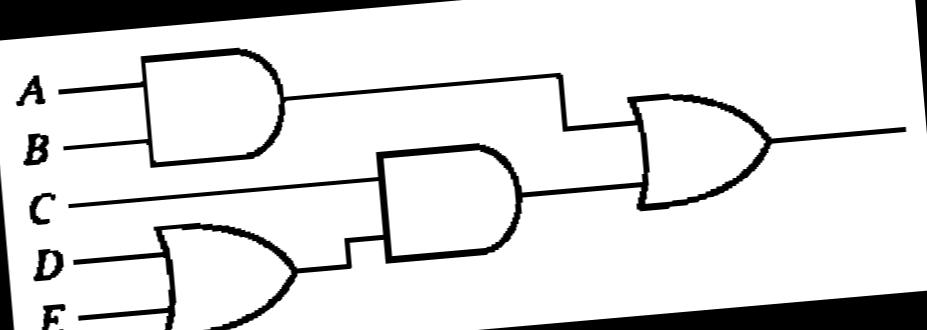and: (353, 122, 560, 289), (108, 28, 316, 182)
or: (594, 58, 827, 242), (132, 201, 322, 330)
